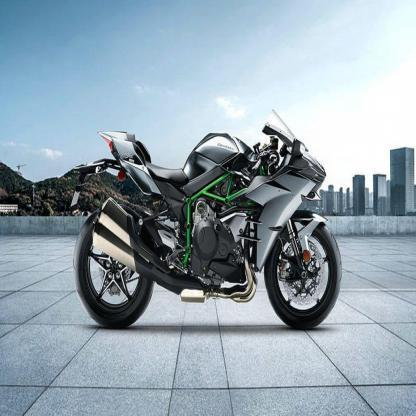Motorcycle: (66, 101, 350, 343)
